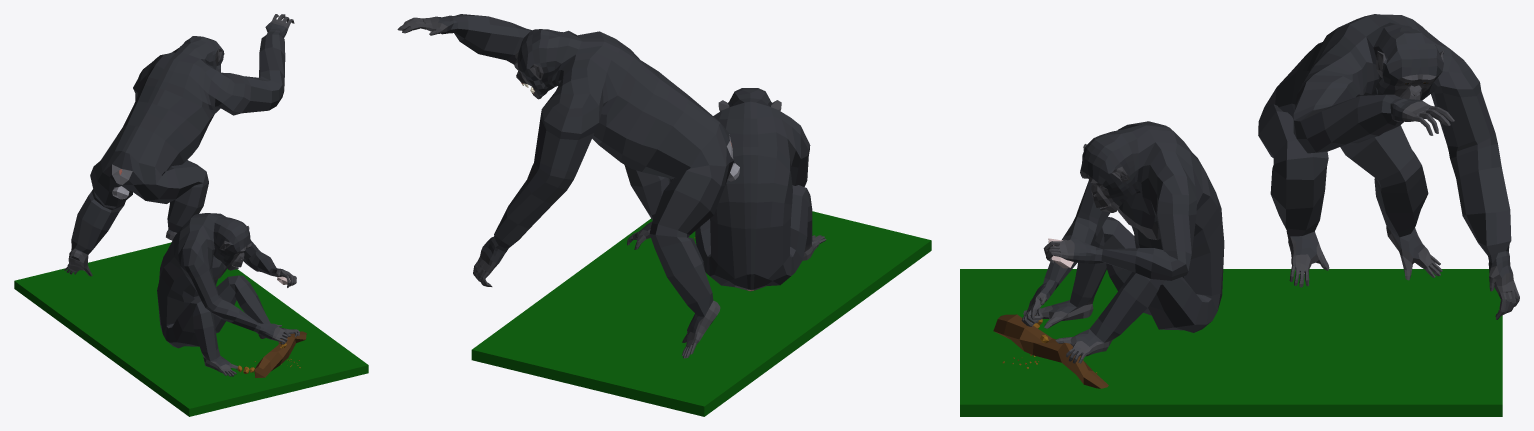
File: chimp-double.fbx
3 views of the same model, side by side, from view 1: azimuth 30°, elevation 25°; view 2: azimuth 150°, elevation 25°; view 3: azimuth 270°, elevation 25° (orthographic). The views are drawn at different scales.
Visible parts, largest first — view 1: Chimpanzee.original; view 2: Chimpanzee.original; view 3: Chimpanzee.original.
Boxes of the visible parts, x1=… form: Chimpanzee.original: x1=14, y1=14, x2=368, y2=416; Chimpanzee.original: x1=397, y1=14, x2=931, y2=416; Chimpanzee.original: x1=960, y1=14, x2=1519, y2=416.
Size of the model in its own units: 149 by 131 by 181.
